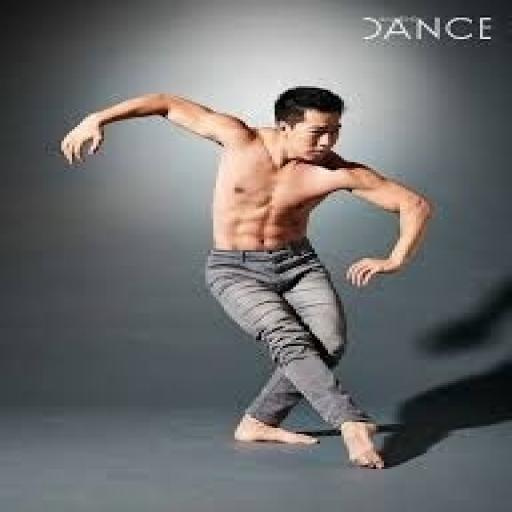dancing: (56, 84, 437, 471)
